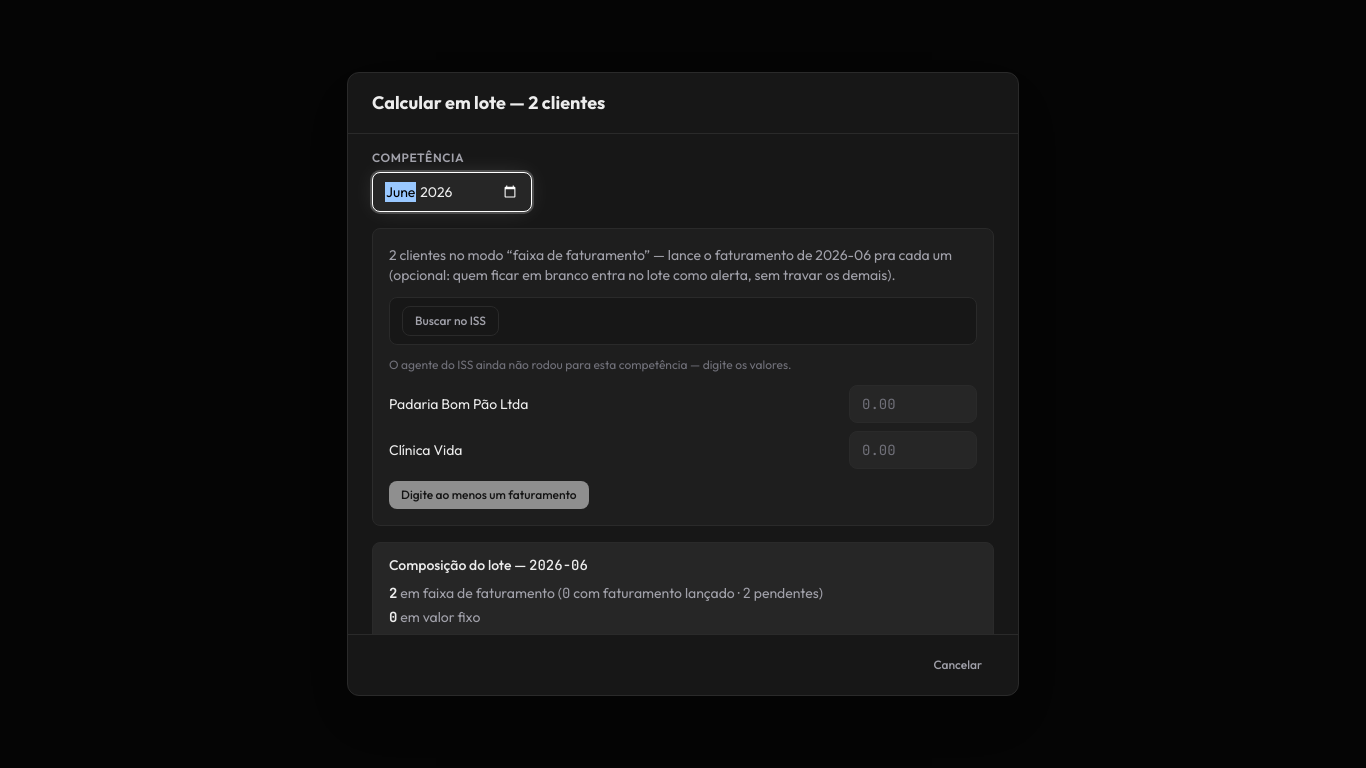
Test: LoteContabilidadeDialog — busca no ISS pelo sistema (Story 13.5) › sem busca ativa: "Buscar no ISS" habilitado; clicar pede SÓ os clientes do lote e mostra "Na fila"
Click the button "Buscar no ISS".
click(450, 321)  # box [402,306,499,336]
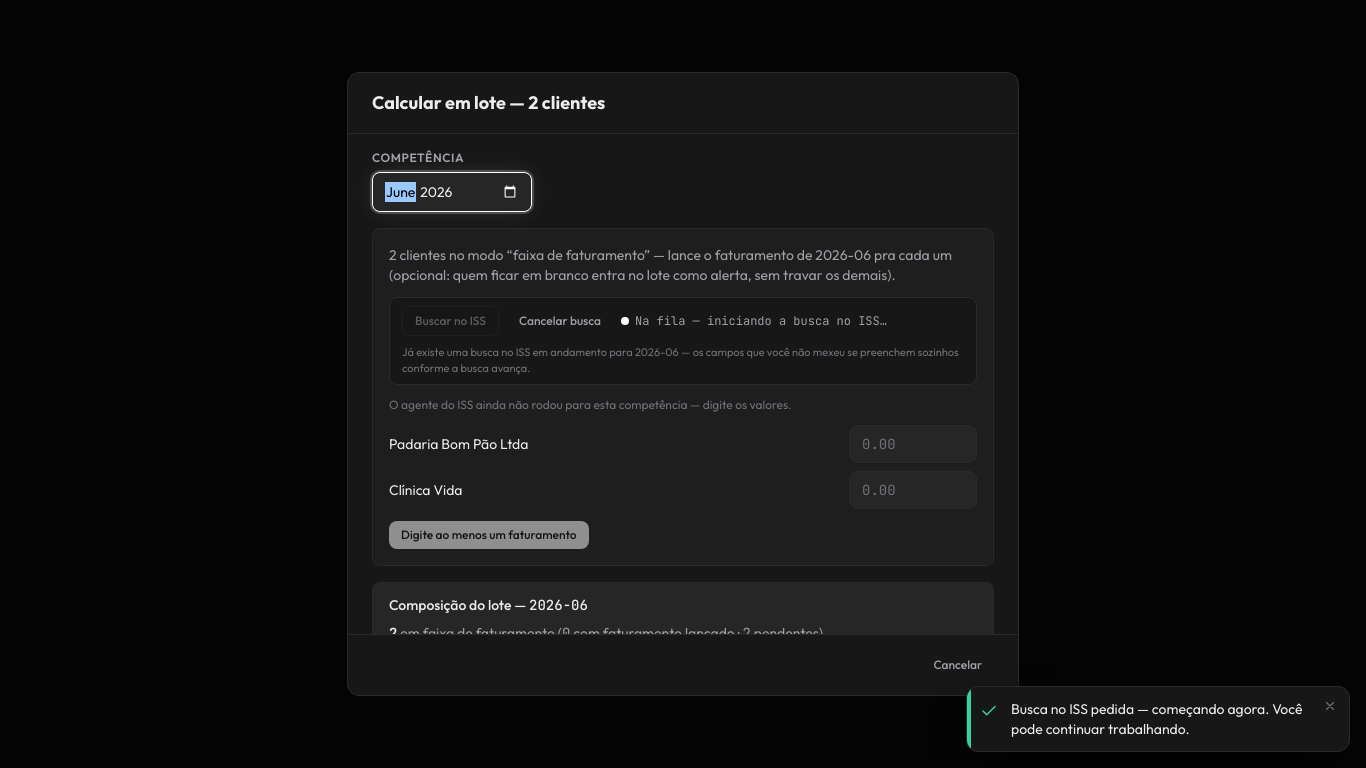
Now the text "Na fila — iniciando a busca no ISS…" is shown, box [635,313,887,329]
Now the button "Buscar no ISS" is disabled, box [402,306,499,336]
